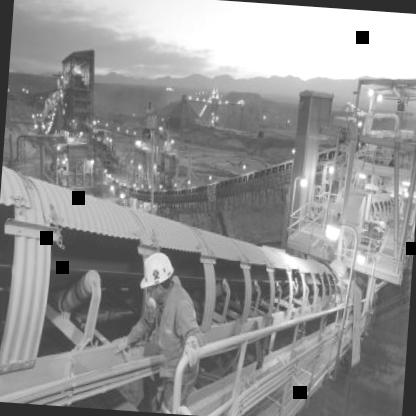helmet: (140, 248, 178, 304)
